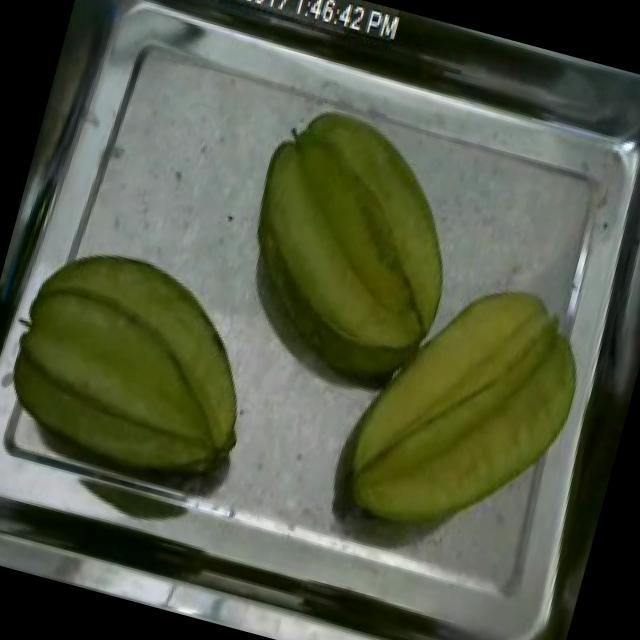fruit: (318, 246, 612, 578), (0, 224, 286, 508), (216, 89, 494, 378)
